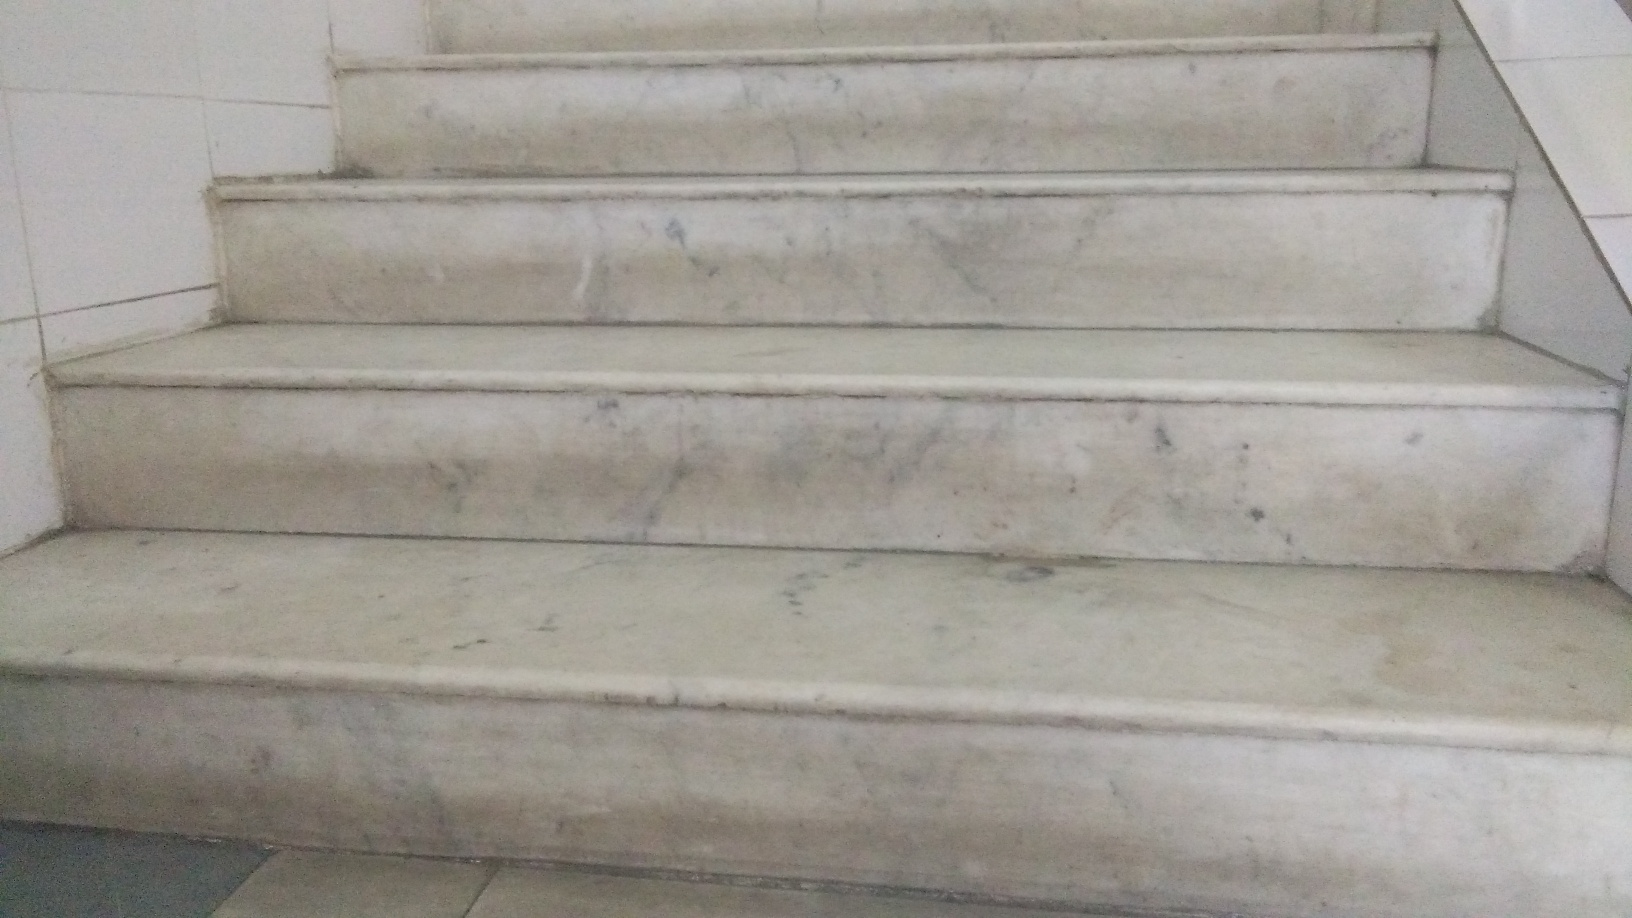stairs_up: (9, 9, 1632, 912)
